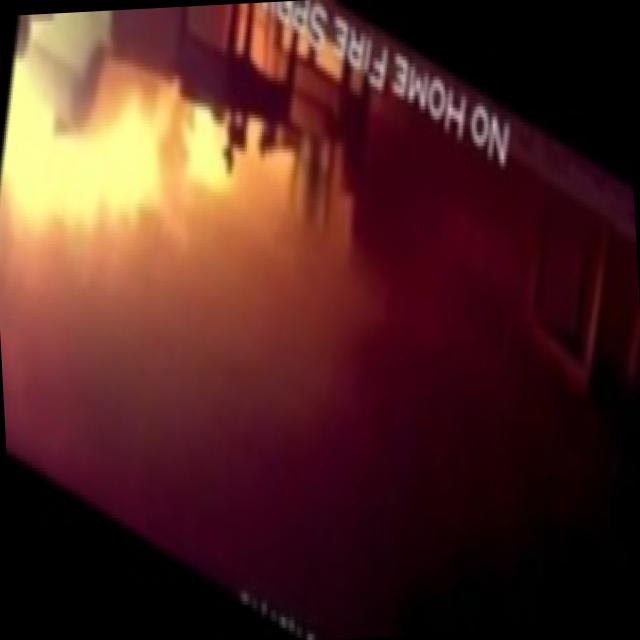fire: (0, 2, 287, 397)
